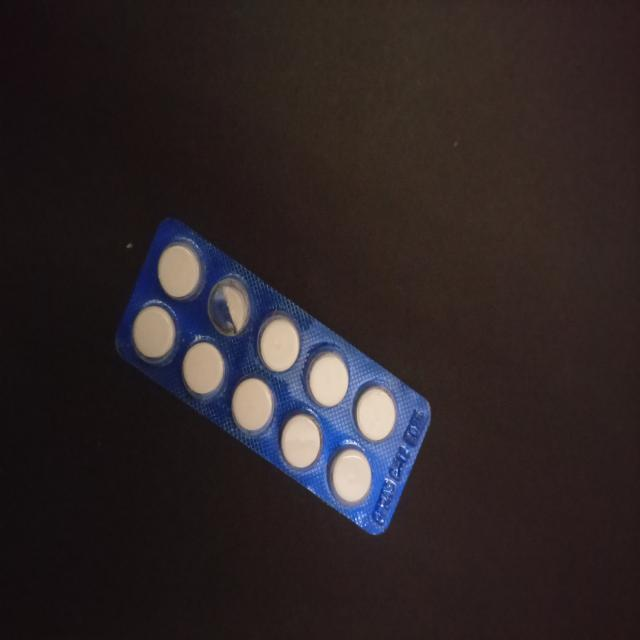defect: (206, 273, 256, 340)
